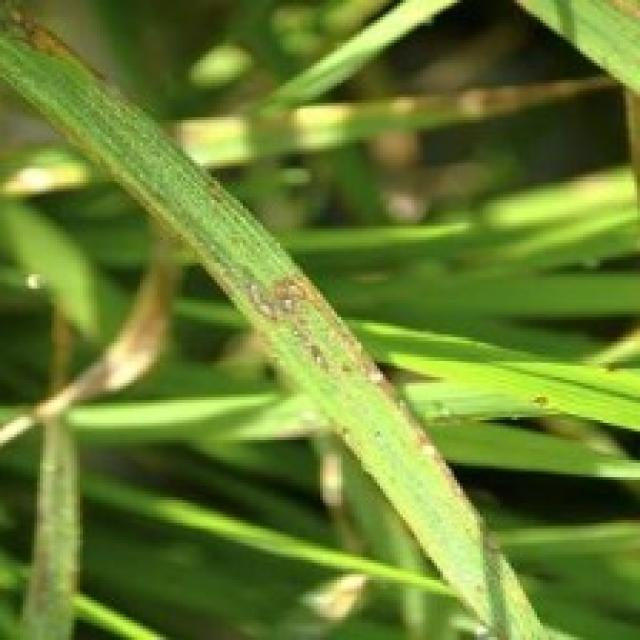Rice___Rice_Blast: (0, 0, 551, 637)
